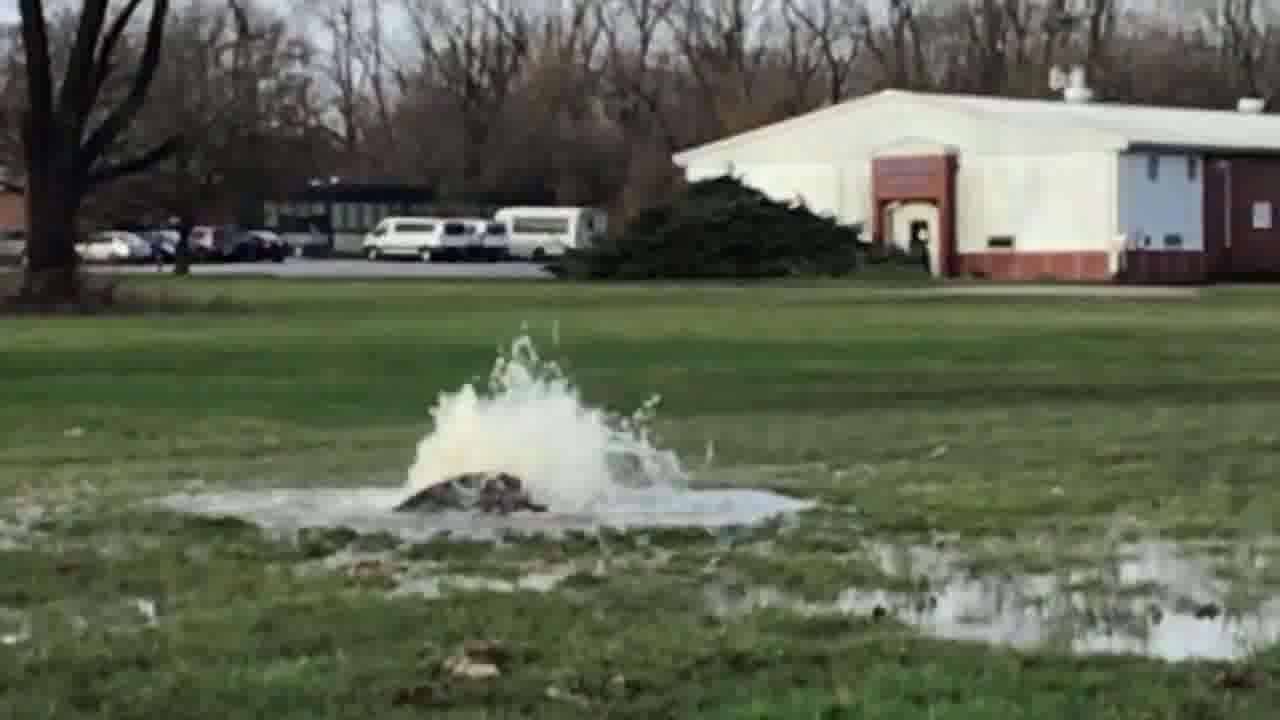drainage_overflow: (342, 334, 673, 570)
